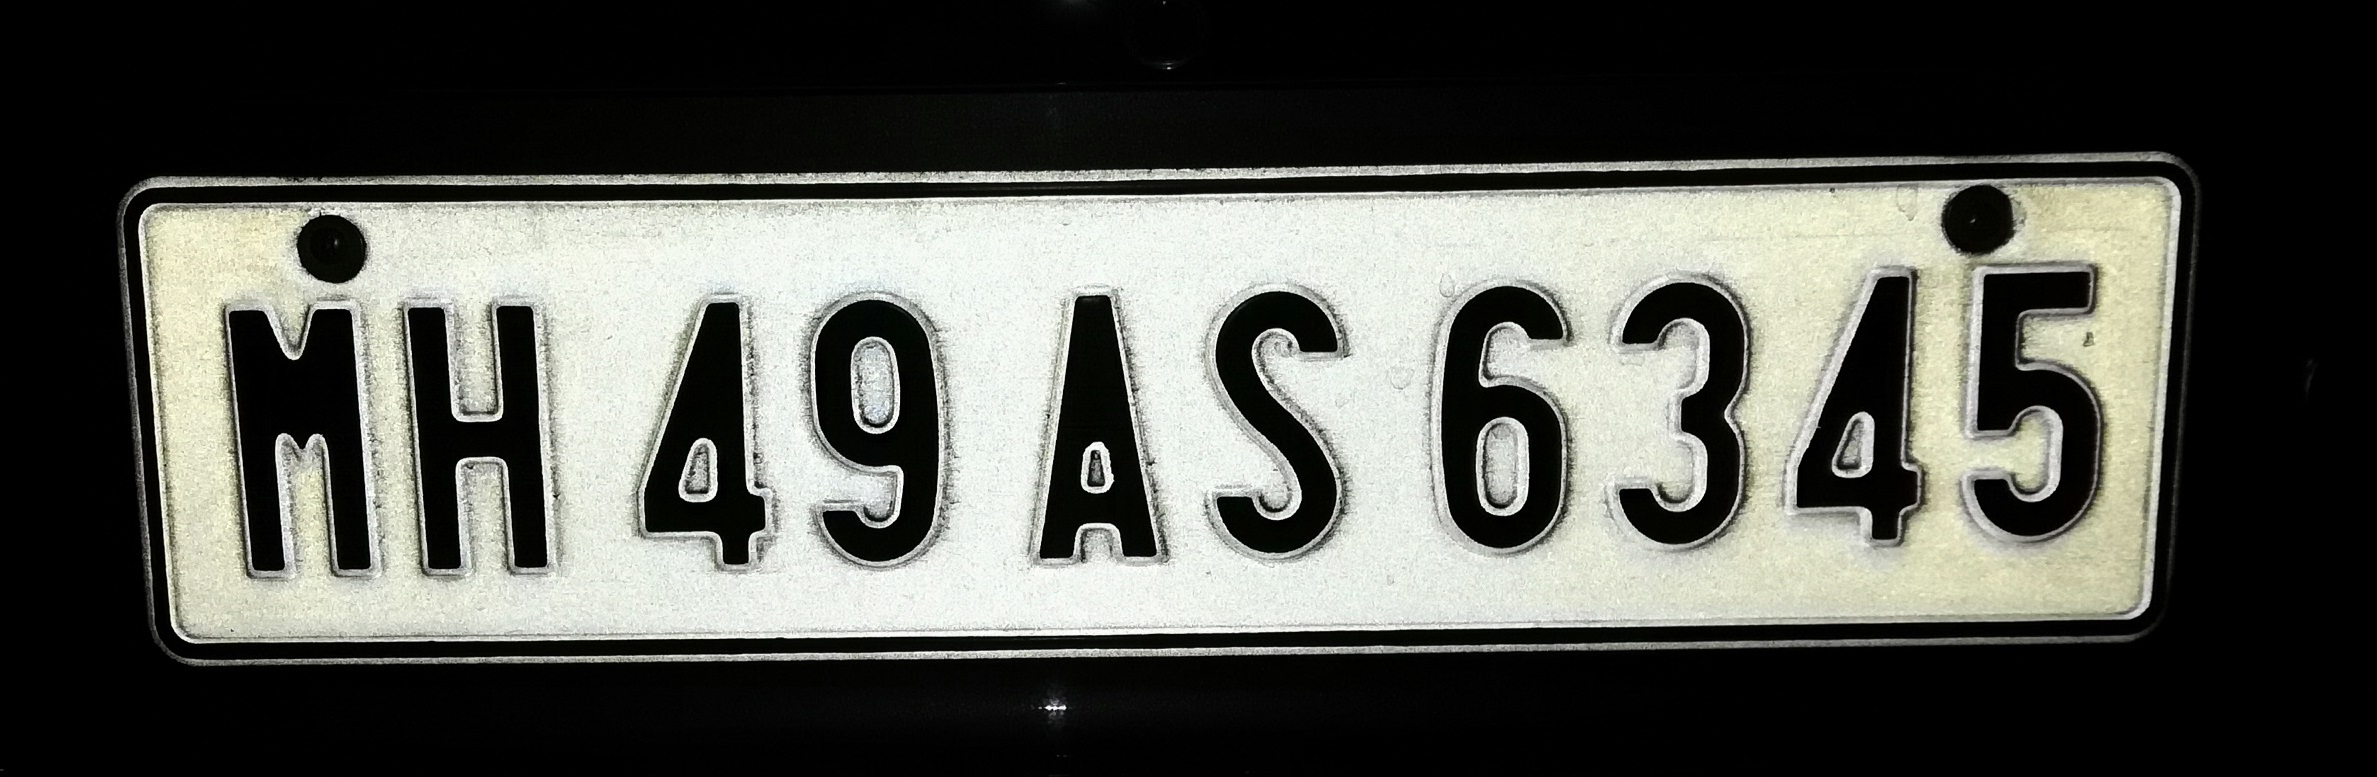numberplate: (115, 155, 2198, 678)
